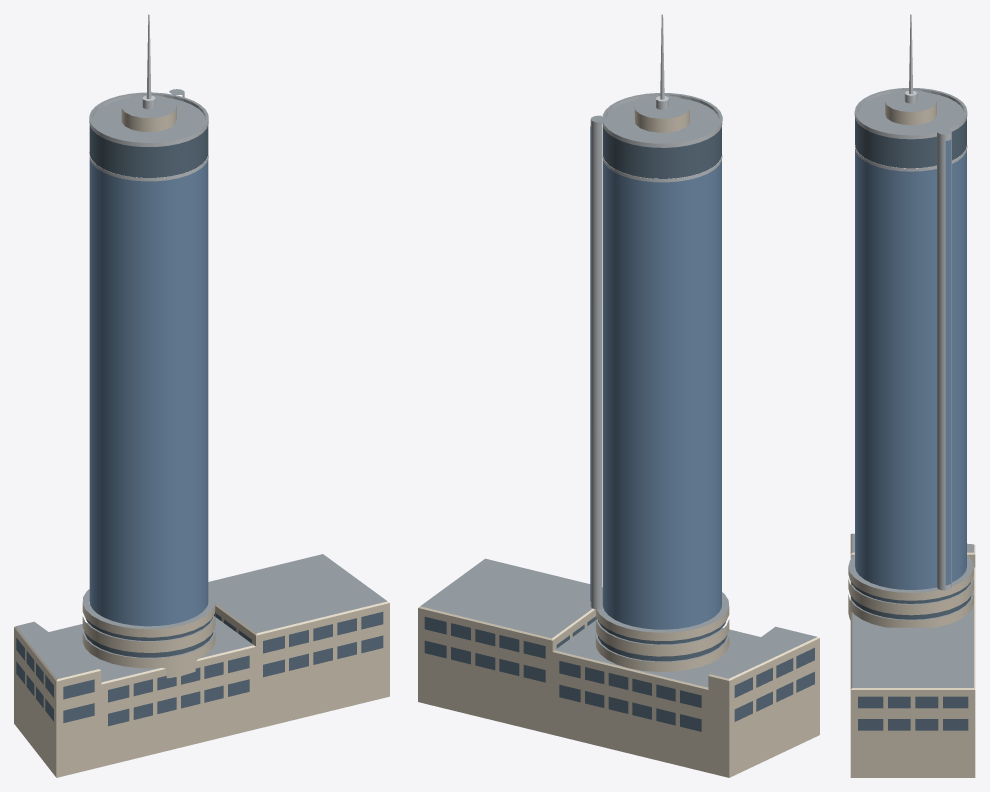
The model's file is atl-westin-peachtree-plaza.glb.
3 views of the same model, side by side, from view 1: azimuth 30°, elevation 25°; view 2: azimuth 150°, elevation 25°; view 3: azimuth 270°, elevation 25° (orthographic). The views are drawn at different scales.
Visible parts, largest first — view 1: Westin Peachtree Plaza; view 2: Westin Peachtree Plaza; view 3: Westin Peachtree Plaza.
Boxes of the visible parts, x1,y1,x2,y2 form: Westin Peachtree Plaza: (14,14,389,777); Westin Peachtree Plaza: (418,14,819,777); Westin Peachtree Plaza: (848,14,975,777).
Bounding box in the file's own units: 125 × 254 × 43.85.
